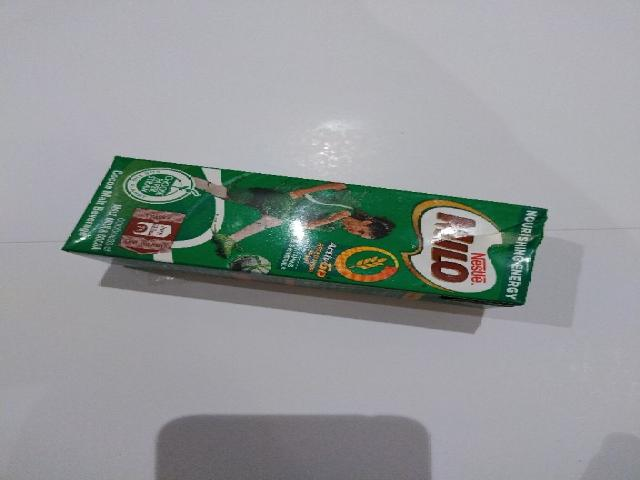drink_box: (64, 157, 546, 306)
